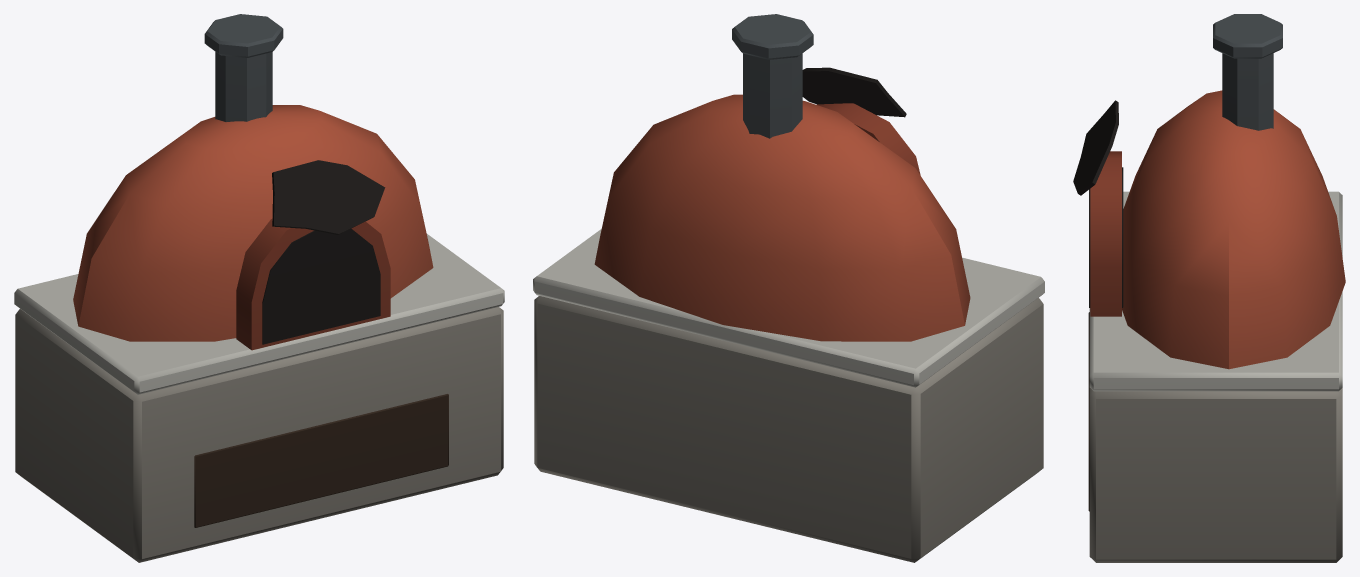
File: 71_four_pizza.fbx
3 renders of one model, left to right at view 1: azimuth 30°, elevation 25°; view 2: azimuth 150°, elevation 25°; view 3: azimuth 270°, elevation 25°, orthographic. The views are drawn at different scales.
Visible parts, largest first — view 1: Four; view 2: Four; view 3: Four.
Boxes of the visible parts, <box> form: Four: <box>14,14,504,562</box>; Four: <box>533,14,1044,562</box>; Four: <box>1073,14,1345,562</box>.
Bounding box in the file's own units: 0.896 × 1.01 × 0.56.
Materials: 1 (1 with a texture image).
